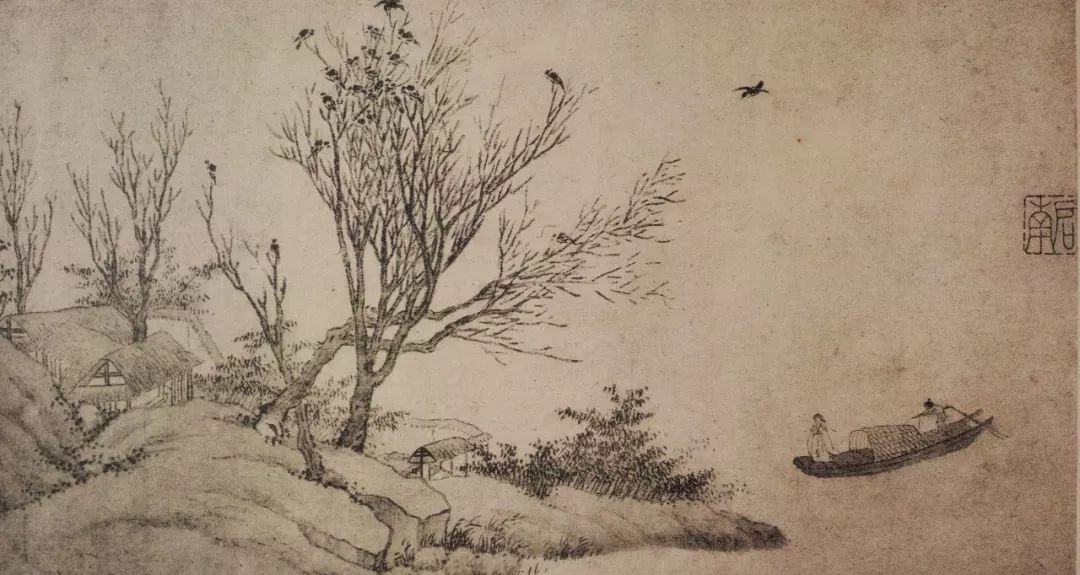boat: (799, 390, 998, 477)
grass: (473, 397, 746, 521)
hill: (5, 361, 414, 575)
house: (4, 300, 204, 408)
tree: (293, 25, 661, 464), (65, 90, 224, 347), (1, 106, 62, 315)
